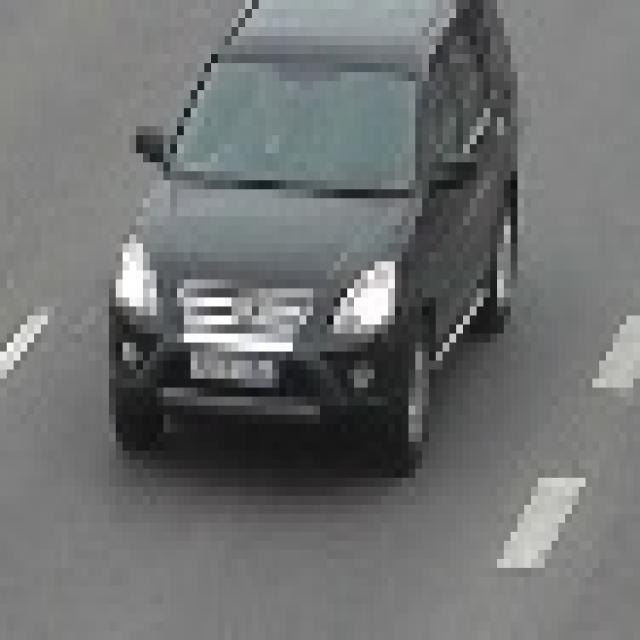SUV: (122, 0, 496, 448)
